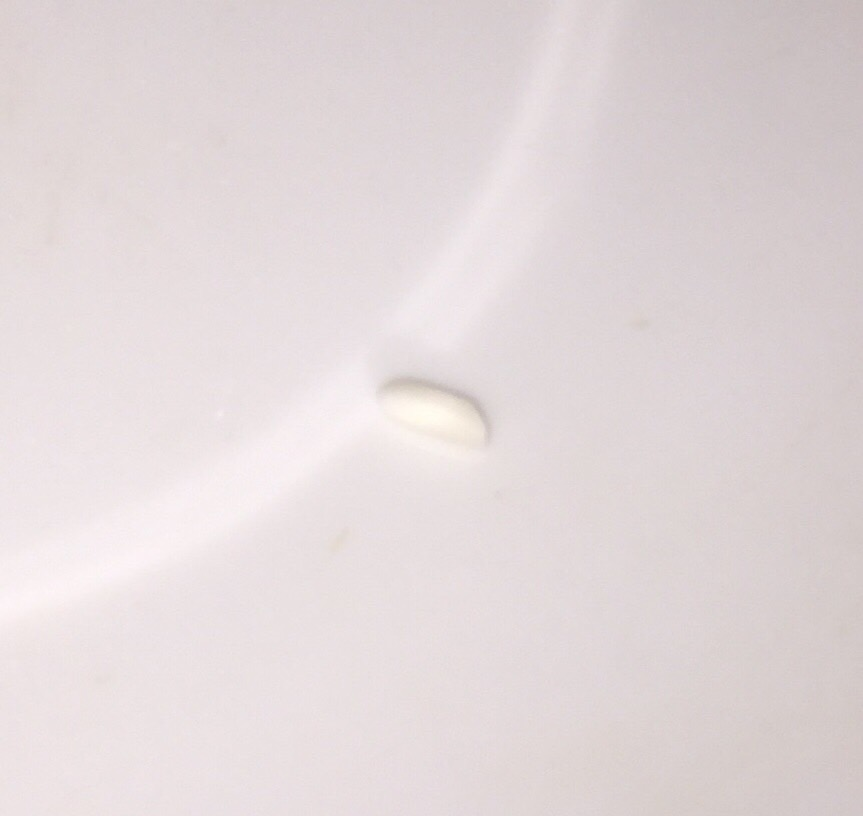Gao Nep Sap: (374, 365, 489, 461)
